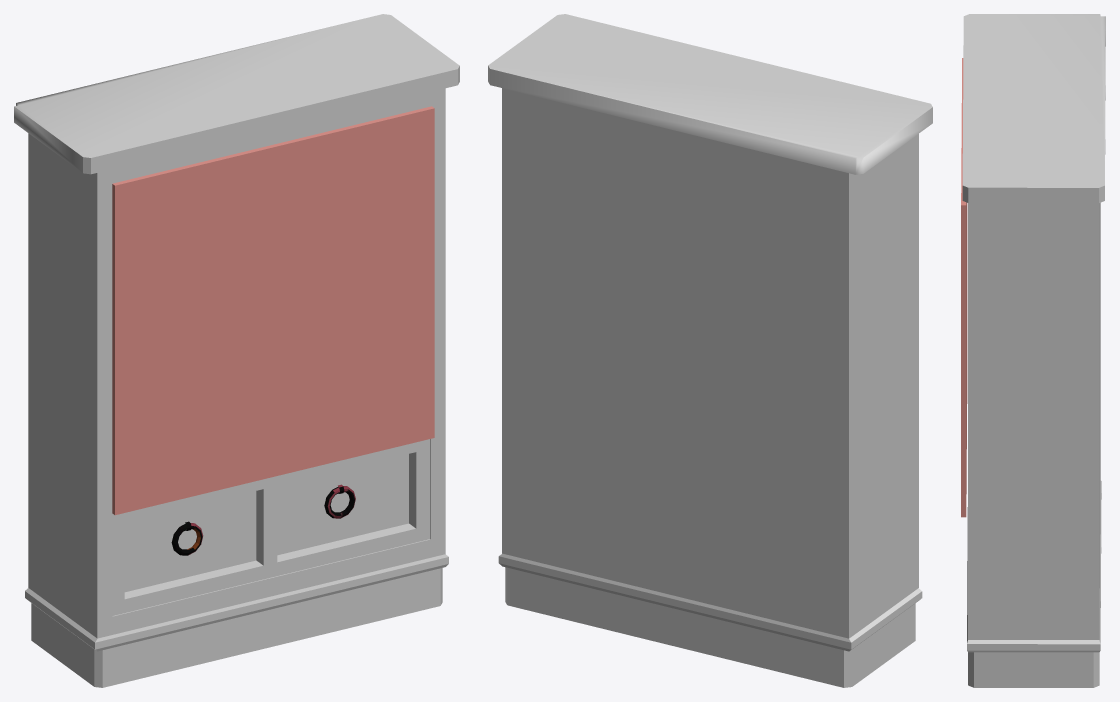
File: Estanteria_unguentos.fbx
The picture shows the model from 3 angles, left to right: view 1: azimuth 30°, elevation 25°; view 2: azimuth 150°, elevation 25°; view 3: azimuth 270°, elevation 25°; orthographic projection. The views are drawn at different scales.
Parts seen in each view (by area): view 1: Plane.063, Cube; view 2: Plane.063; view 3: Plane.063, Cube.
Boxes of the visible parts, left/top/right/bottom form: Plane.063: left=14, top=14, right=459, bottom=687; Cube: left=112, top=106, right=434, bottom=515; Plane.063: left=488, top=14, right=932, bottom=687; Plane.063: left=962, top=14, right=1105, bottom=687; Cube: left=961, top=58, right=967, bottom=517.
Size of the model in its own units: 158 by 214 by 55.55.
